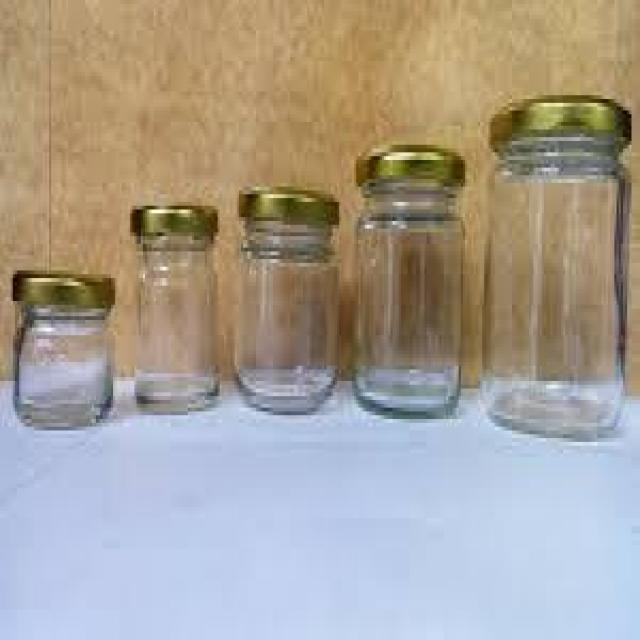glass: (126, 196, 224, 417)
